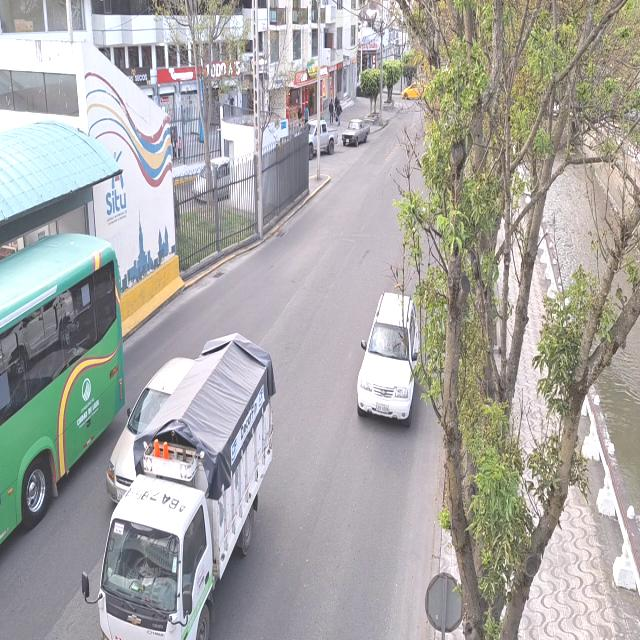BUS: (0, 233, 124, 551)
CMT: (309, 120, 338, 158), (342, 119, 370, 145)
SED: (356, 289, 420, 422)
TRUCK: (99, 338, 271, 639)
